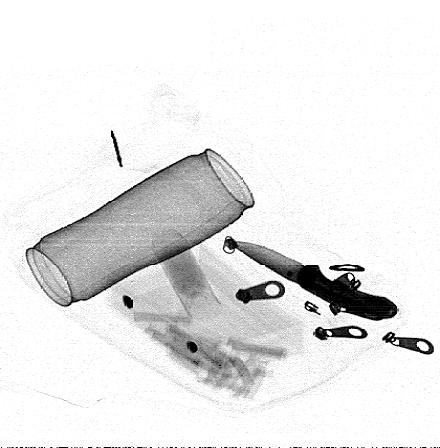Knife: (226, 240, 398, 321)
